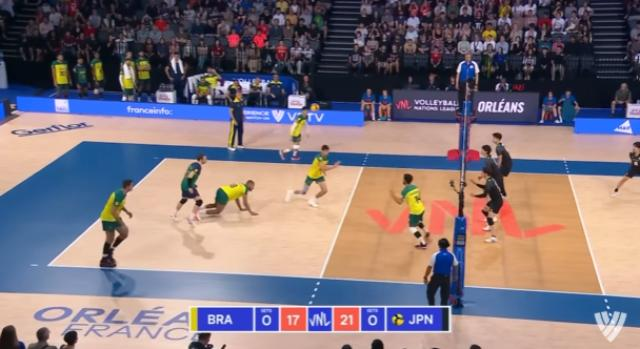Levantador: (388, 160, 438, 258), (604, 134, 640, 208)
Libero: (166, 143, 212, 230)
bola: (304, 94, 326, 122)
